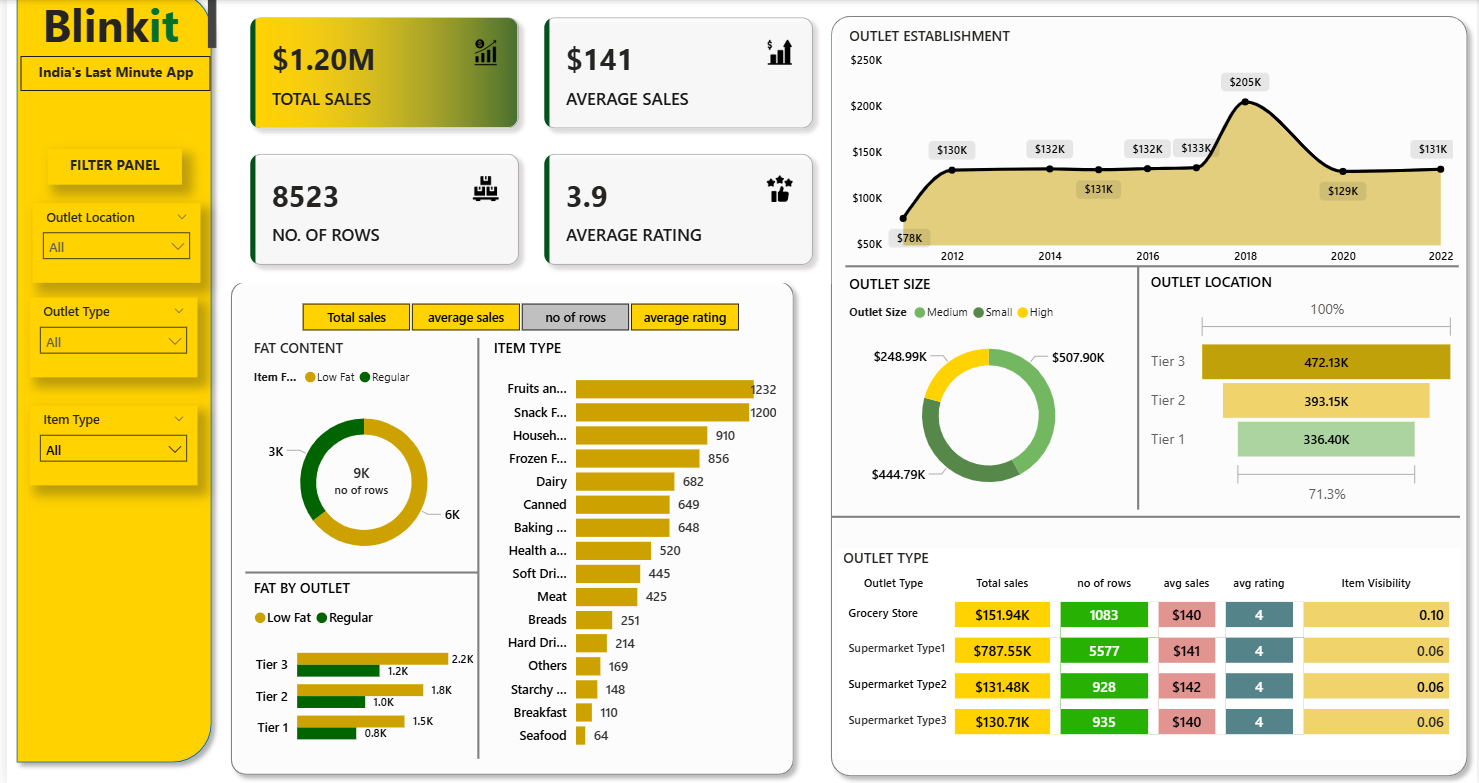

The page's visual inventory and layout, read from the dashboard file:
{"tool":"powerbi","page":{"name":"Page 1","canvas":[1400,800],"ordinal":0},"visuals":[{"type":"shape","box":[0,36,204,752],"z":0},{"type":"textbox","box":[0,41.3,204.6,64.1],"z":1000},{"type":"textbox","box":[12.4,105.4,181.9,33.1],"z":2000},{"type":"cardVisual","fields":{"Data":["BlinkIT Grocery Data.Total sales","BlinkIT Grocery Data.average sales","BlinkIT Grocery Data.no of rows","BlinkIT Grocery Data.average rating"]},"box":[204.6,41.3,570.5,270.8],"z":3000},{"type":"shape","box":[204.6,312.1,553.9,487.8],"z":4000},{"type":"donutChart","title":"FAT CONTENT","fields":{"Y":["BlinkIT Grocery Data.no of rows"],"Category":["BlinkIT Grocery Data.Item Fat Content"]},"box":[229.4,374.1,219.1,229.4],"z":5000},{"type":"slicer","fields":{"Values":["Metrics.Metrics"]},"box":[256.3,334.8,465.1,39.3],"z":6000},{"type":"cardVisual","fields":{"Data":["BlinkIT Grocery Data.no of rows"]},"box":[260.4,475.4,155,62],"z":7000},{"type":"clusteredBarChart","title":"FAT BY OUTLET","fields":{"Y":["BlinkIT Grocery Data.no of rows"],"Category":["BlinkIT Grocery Data.Outlet Location Type"],"Series":["BlinkIT Grocery Data.Item Fat Content"]},"box":[229.4,603.5,219.1,171.6],"z":8000},{"type":"shape","box":[227.4,591.1,221.2,12.4],"z":9000},{"type":"shape","box":[438.2,374.1,20.7,401],"z":10000},{"type":"barChart","title":"ITEM TYPE","fields":{"Y":["BlinkIT Grocery Data.no of rows"],"Category":["BlinkIT Grocery Data.Item Type"]},"box":[458.9,374.1,279,401],"z":11000},{"type":"shape","box":[775.1,57.9,624.2,742],"z":12000},{"type":"lineChart","title":"OUTLET ESTABLISHMENT","fields":{"Category":["BlinkIT Grocery Data.Outlet Establishment Year"],"Y":["BlinkIT Grocery Data.Total sales"]},"box":[797.8,76.5,584.9,235.6],"z":13000},{"type":"donutChart","title":"OUTLET SIZE","fields":{"Y":["BlinkIT Grocery Data.Total sales"],"Category":["BlinkIT Grocery Data.Outlet Size"]},"box":[797.5,312.5,275,225],"z":14000},{"type":"shape","box":[798,300,584,12],"z":15000},{"type":"shape","box":[1064,306,26,232],"z":16000},{"type":"funnel","title":"OUTLET LOCATION","fields":{"Y":["Sum(BlinkIT Grocery Data.Sales)"],"Category":["BlinkIT Grocery Data.Outlet Location Type"]},"box":[1084,312,300,226],"z":17000},{"type":"shape","box":[786,538,598,12],"z":18000},{"type":"pivotTable","title":"OUTLET TYPE","fields":{"Rows":["BlinkIT Grocery Data.Outlet Type"],"Values":["BlinkIT Grocery Data.Total sales","BlinkIT Grocery Data.no of rows","BlinkIT Grocery Data.average sales","BlinkIT Grocery Data.average rating","Avg(BlinkIT Grocery Data.Item Visibility)"]},"box":[792,574,594,202],"z":19000},{"type":"cardVisual","fields":{"Data":["BlinkIT Grocery Data.Total sales","BlinkIT Grocery Data.average sales","BlinkIT Grocery Data.no of rows","BlinkIT Grocery Data.average rating"]},"box":[214.6,51.3,570.5,270.8],"z":21000},{"type":"slicer","fields":{"Values":["BlinkIT Grocery Data.Outlet Location Type"]},"box":[24,246,160,76],"z":22000},{"type":"slicer","fields":{"Values":["BlinkIT Grocery Data.Outlet Size"]},"box":[22,336,160,76],"z":22001},{"type":"slicer","fields":{"Values":["BlinkIT Grocery Data.Item Type"]},"box":[22,438,160,76],"z":22002},{"type":"textbox","box":[38,194,128,34],"z":22003}]}

Visuals, with their boxes on the page's 1400x800 design canvas (x1, y1, x2, y2). These are canvas units, not pixel positions in the 1479x783 screenshot, which may show the page scaled, cropped or inside an application window:
shape: 0,36,204,788
textbox: 0,41,205,105
textbox: 12,105,194,138
cardVisual - BlinkIT Grocery Data.Total sales x BlinkIT Grocery Data.average sales: 205,41,775,312
shape: 205,312,758,800
"FAT CONTENT" donutChart: 229,374,448,604
slicer - Metrics.Metrics: 256,335,721,374
cardVisual - BlinkIT Grocery Data.no of rows: 260,475,415,537
"FAT BY OUTLET" clusteredBarChart: 229,604,448,775
shape: 227,591,449,604
shape: 438,374,459,775
"ITEM TYPE" barChart: 459,374,738,775
shape: 775,58,1399,800
"OUTLET ESTABLISHMENT" lineChart: 798,76,1383,312
"OUTLET SIZE" donutChart: 798,312,1072,538
shape: 798,300,1382,312
shape: 1064,306,1090,538
"OUTLET LOCATION" funnel: 1084,312,1384,538
shape: 786,538,1384,550
"OUTLET TYPE" pivotTable: 792,574,1386,776
cardVisual - BlinkIT Grocery Data.Total sales x BlinkIT Grocery Data.average sales: 215,51,785,322
slicer - BlinkIT Grocery Data.Outlet Location Type: 24,246,184,322
slicer - BlinkIT Grocery Data.Outlet Size: 22,336,182,412
slicer - BlinkIT Grocery Data.Item Type: 22,438,182,514
textbox: 38,194,166,228
